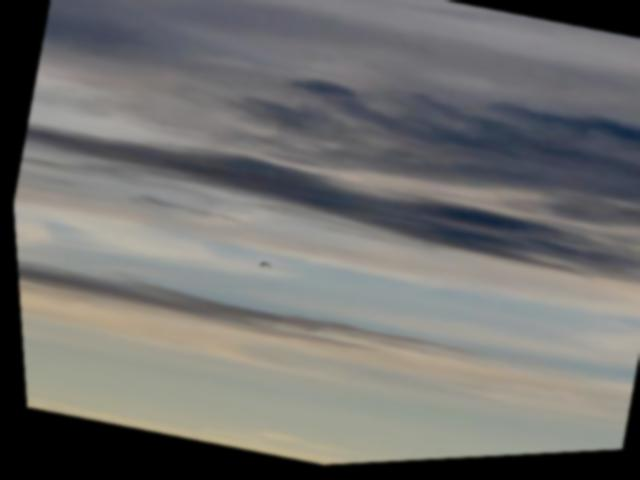bird: (225, 248, 284, 287)
